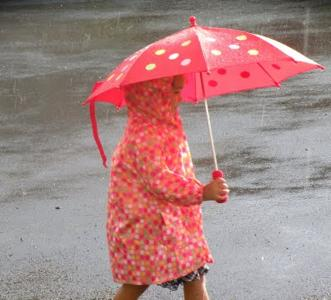person: (107, 74, 229, 300)
